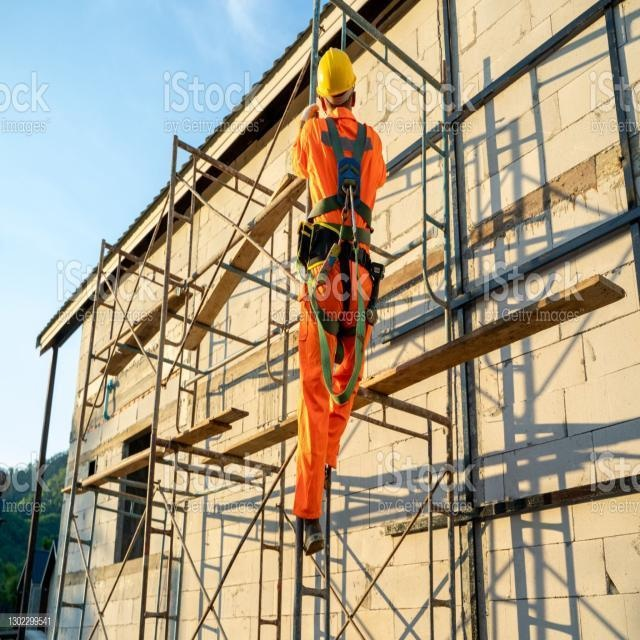Arnes_seguridad: (297, 110, 383, 374)
